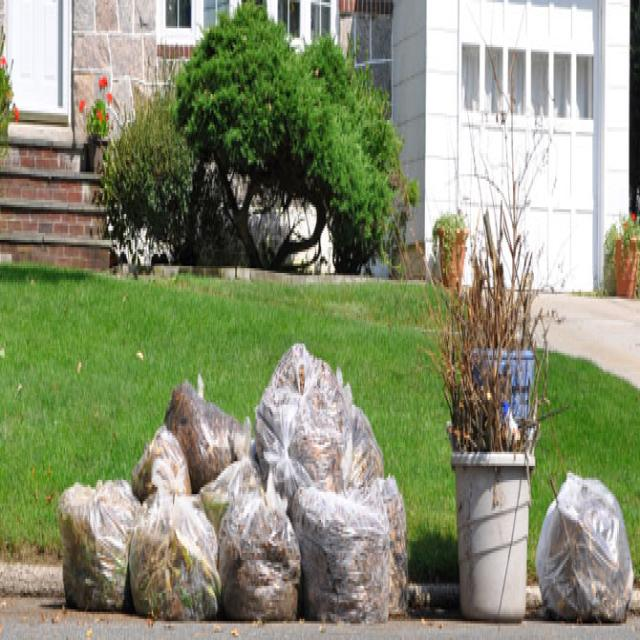House: (0, 0, 631, 294)
